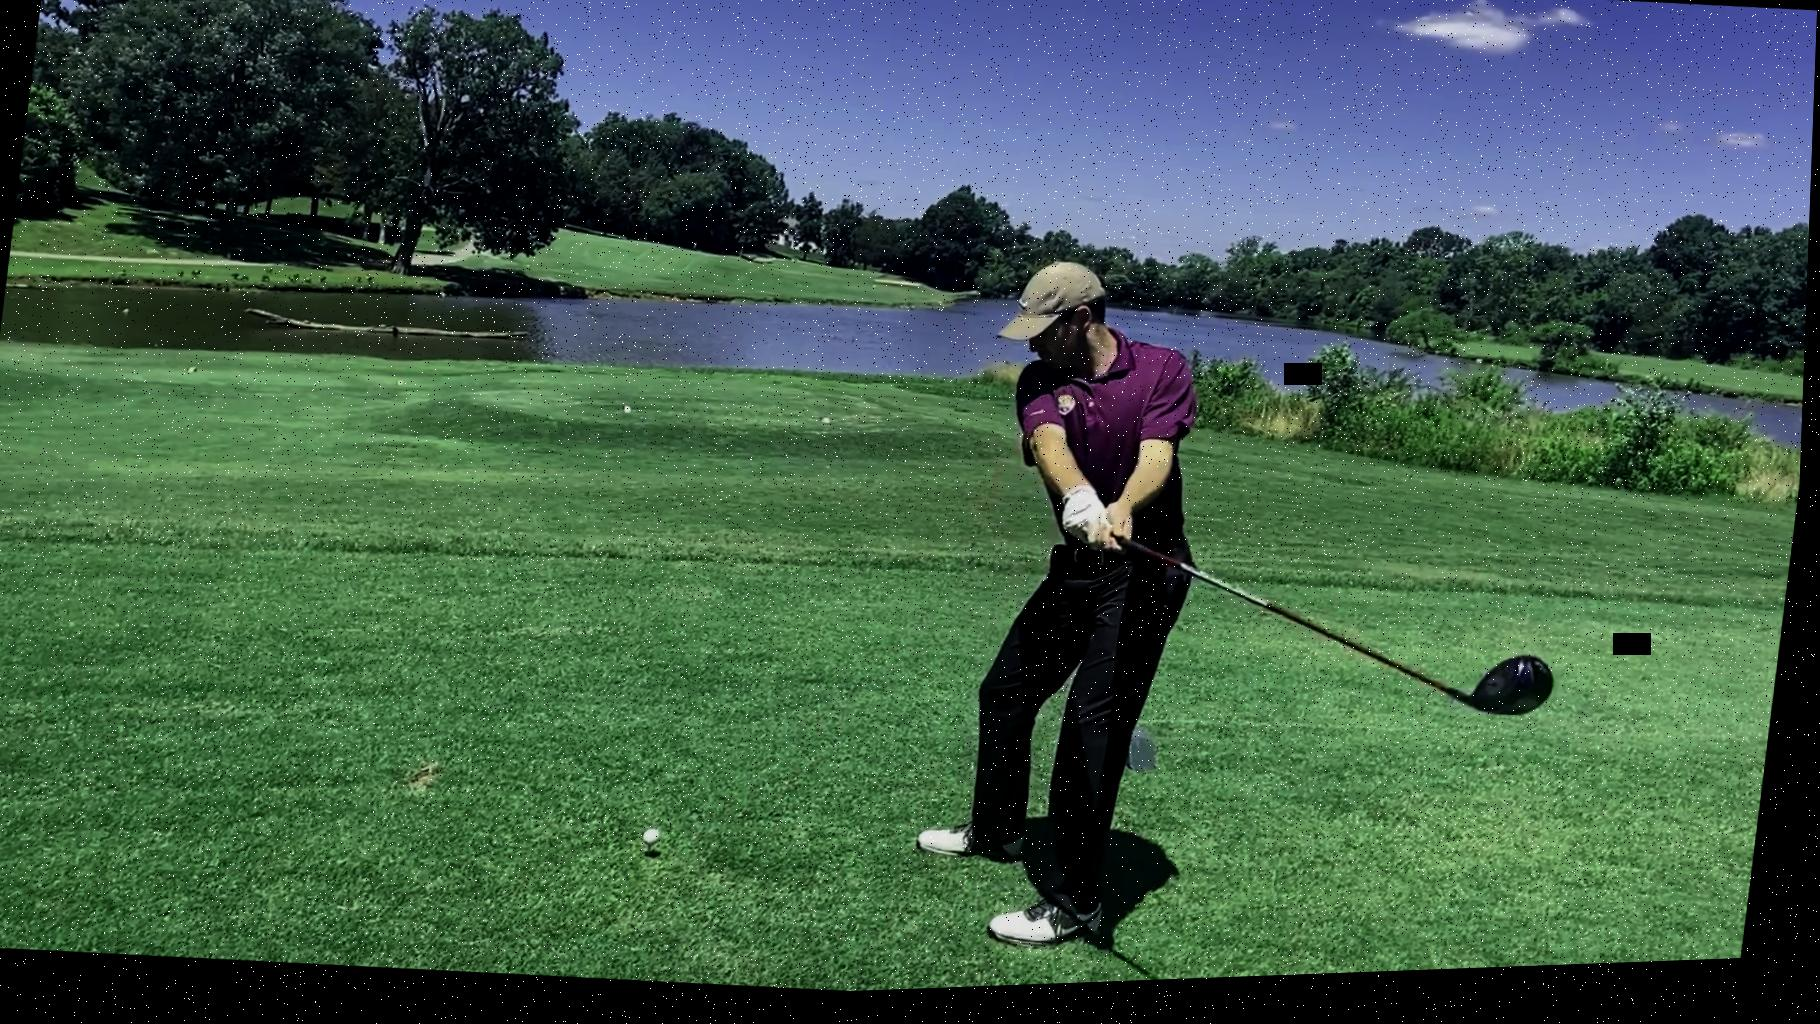ClubHead: (1449, 659, 1565, 736)
GolfBall: (645, 831, 671, 851)
